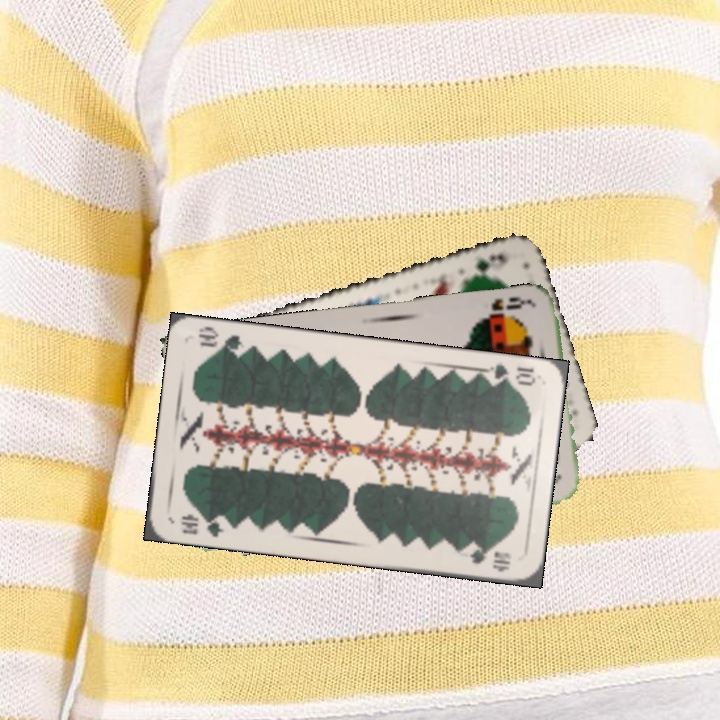G10: (480, 360, 538, 389), (177, 510, 226, 540)
GK: (461, 250, 511, 282)
SO: (475, 293, 534, 324)
